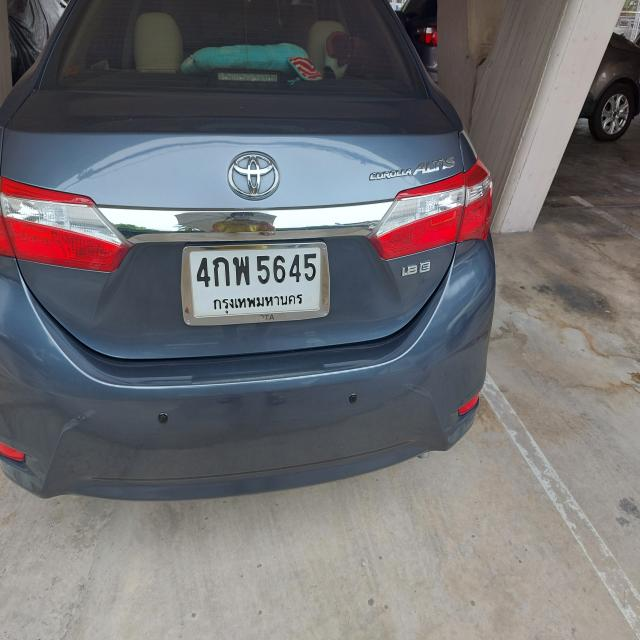license_plate: (177, 239, 336, 330)
